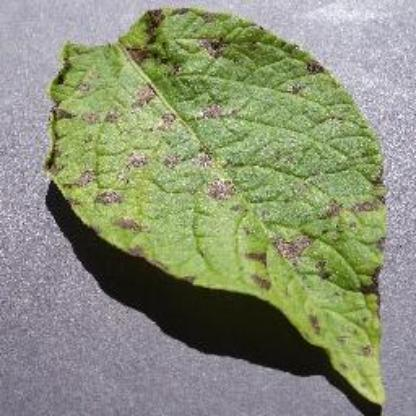Early-Blight: (41, 6, 400, 406)
